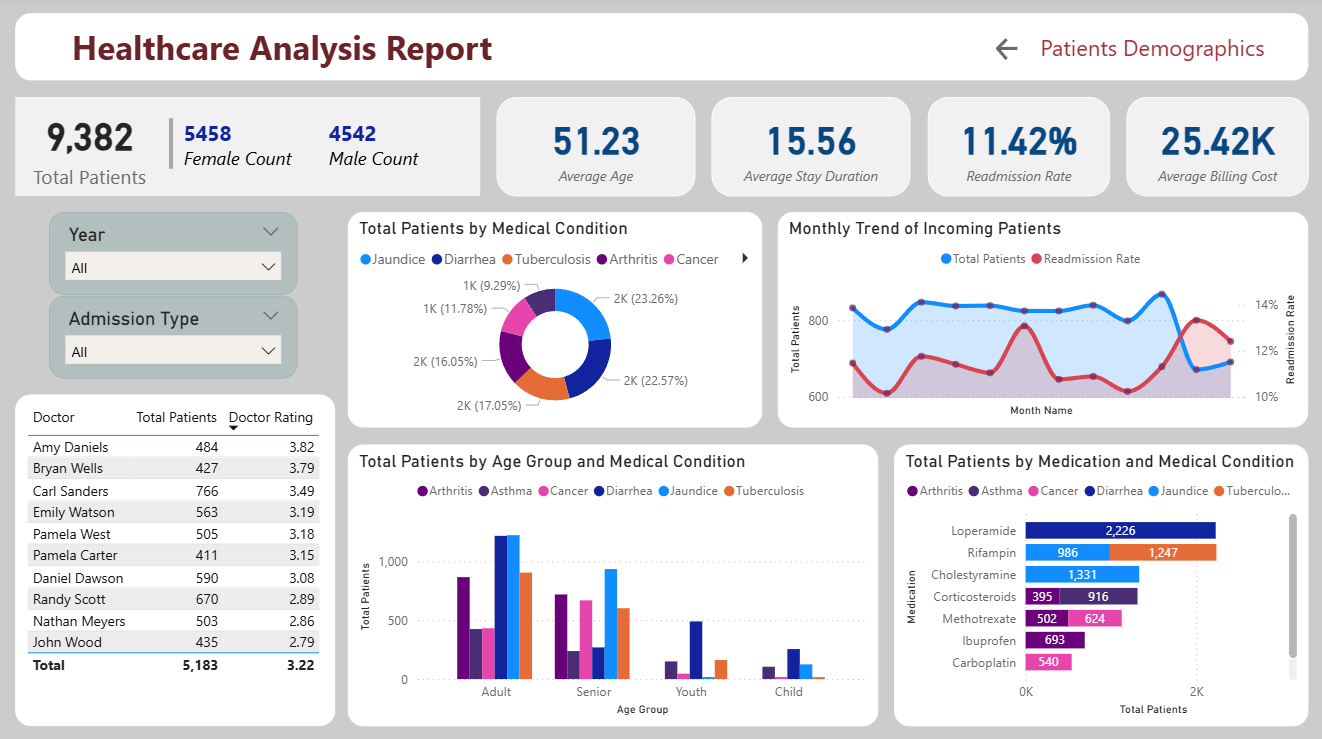

What the dashboard file says about the page in this screenshot:
{"tool":"powerbi","page":{"name":"Clinical Insights","canvas":[1280,720],"ordinal":1},"visuals":[{"type":"multiRowCard","fields":{"Values":["Calculations.Female Count","Calculations.Male Count"]},"box":[160,112,304,64],"z":0,"group":"g1"},{"type":"clusteredColumnChart","fields":{"Y":["Calculations.Total Patients"],"Category":["healthcare_dataset.Age Group"],"Series":["healthcare_dataset.Medical Condition"]},"box":[336,432,512,272],"z":0},{"type":"card","fields":{"Values":["Calculations.Total Patients"]},"box":[16,96,144,96],"z":1000,"group":"g1"},{"type":"textbox","box":[16,16,1248,65],"z":1000},{"type":"textbox","box":[1000,29,240,48],"z":2000},{"type":"actionButton","box":[950,26,48,48],"z":3000},{"type":"group","id":"g1","title":"Group 1","box":[16,96,448,96],"z":4000},{"type":"card","fields":{"Values":["Calculations.Average Age"]},"box":[480,96,192,96],"z":5000},{"type":"card","fields":{"Values":["Calculations.Average Stay Duration"]},"box":[688,96,192,96],"z":6000},{"type":"card","fields":{"Values":["Calculations.Average Billing Cost"]},"box":[1088,96,176,96],"z":7000},{"type":"donutChart","fields":{"Y":["Calculations.Total Patients"],"Category":["healthcare_dataset.Medical Condition"]},"box":[336,208,400,208],"z":8000},{"type":"barChart","fields":{"Y":["Calculations.Total Patients"],"Category":["healthcare_dataset.Medication"],"Series":["healthcare_dataset.Medical Condition"]},"box":[864,432,400,272],"z":9000},{"type":"card","fields":{"Values":["Calculations.Readmission Rate"]},"box":[896,96,176,96],"z":10000},{"type":"tableEx","fields":{"Values":["healthcare_dataset.Doctor","Calculations.Total Patients","healthcare_dataset.Patient Rating"]},"box":[15.6,384.1,309,320.3],"z":11000},{"type":"slicer","fields":{"Values":["healthcare_dataset.Admission Type"]},"box":[48,288,240,80],"z":12000},{"type":"slicer","fields":{"Values":["DateTable.Year"]},"box":[48,208,240,80],"z":13000},{"type":"areaChart","title":"Monthly Trend of Incoming Patients","fields":{"Category":["DateTable.Month Number","DateTable.Month Name"],"Y2":["Calculations.Readmission Rate"],"Y":["Calculations.Total Patients"]},"box":[752,208,512,208],"z":14000}]}

Visuals, with their boxes in screenshot pixels (x1, y1, x2, y2), scaled from the page's 1280x720 canvas onto the 1322x739 screenshot:
multiRowCard - Calculations.Female Count x Calculations.Male Count: select_region(165, 115, 479, 181)
clusteredColumnChart - Calculations.Total Patients x healthcare_dataset.Age Group: select_region(347, 443, 876, 723)
card - Calculations.Total Patients: select_region(17, 99, 165, 197)
textbox: select_region(17, 16, 1305, 83)
textbox: select_region(1033, 30, 1281, 79)
actionButton: select_region(981, 27, 1031, 76)
"Group 1" group: select_region(17, 99, 479, 197)
card - Calculations.Average Age: select_region(496, 99, 694, 197)
card - Calculations.Average Stay Duration: select_region(711, 99, 909, 197)
card - Calculations.Average Billing Cost: select_region(1124, 99, 1305, 197)
donutChart - Calculations.Total Patients x healthcare_dataset.Medical Condition: select_region(347, 213, 760, 427)
barChart - Calculations.Total Patients x healthcare_dataset.Medication: select_region(892, 443, 1305, 723)
card - Calculations.Readmission Rate: select_region(925, 99, 1107, 197)
tableEx - healthcare_dataset.Doctor x Calculations.Total Patients: select_region(16, 394, 335, 723)
slicer - healthcare_dataset.Admission Type: select_region(50, 296, 297, 378)
slicer - DateTable.Year: select_region(50, 213, 297, 296)
"Monthly Trend of Incoming Patients" areaChart: select_region(777, 213, 1305, 427)
